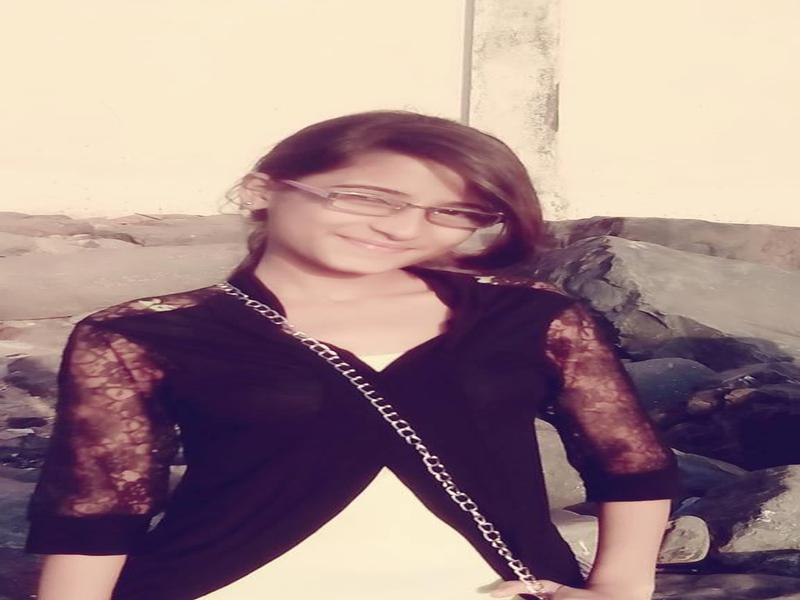without_mask: (278, 151, 476, 282)
